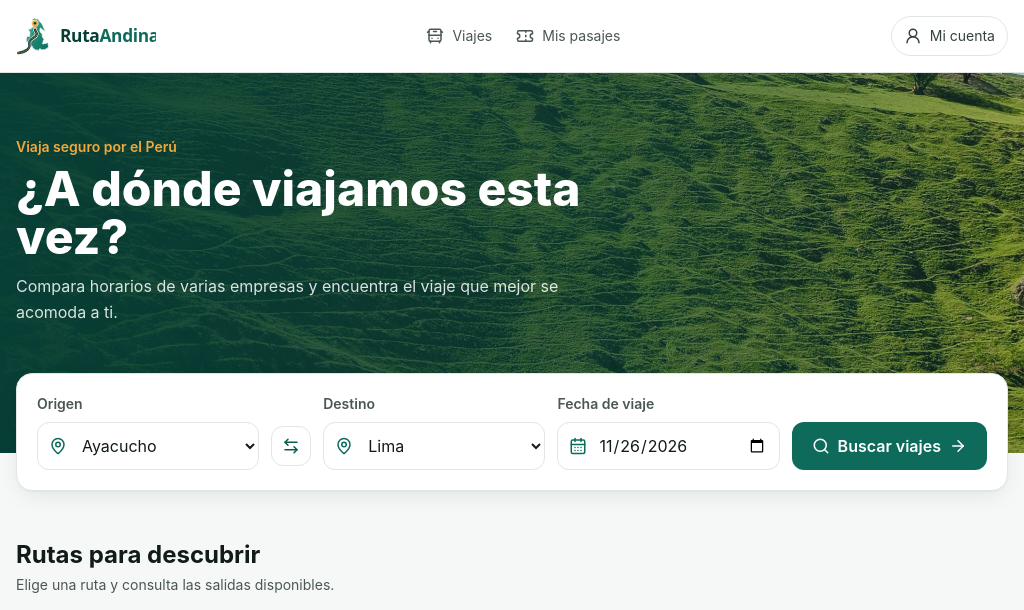
passenger trip search screens › submits the search form and opens results for the selected route and date
Select "Ayacucho" in the dropdown labelled "Origen". click: (148,446)
box: [37, 422, 259, 470]
Select "Lima" in the dropdown labelled "Destino". click: (434,446)
box: [323, 422, 545, 470]
Click the button "Buscar viajes". click: (889,446)
box: [792, 422, 987, 470]
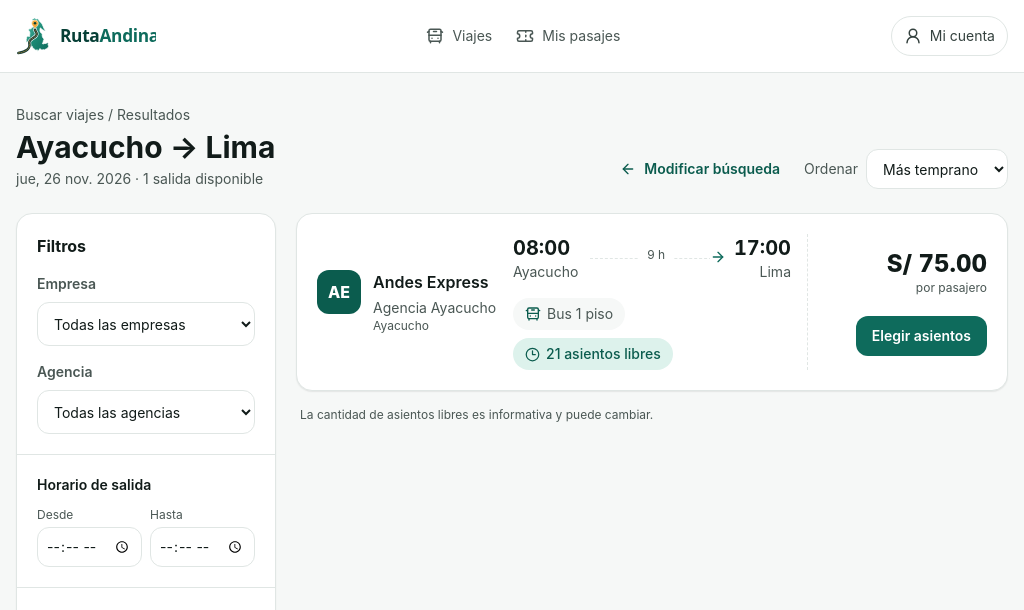
Result: the heading "Andes Express" is shown at [373, 270, 496, 294]
